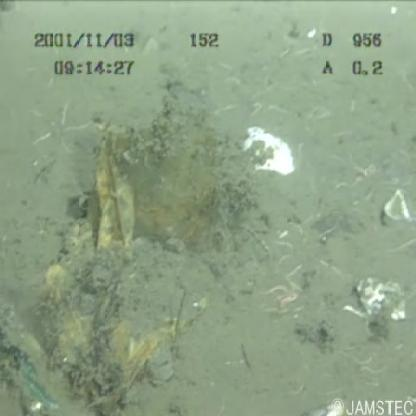Bio: (267, 278, 306, 316)
Rác: (10, 135, 201, 414)
